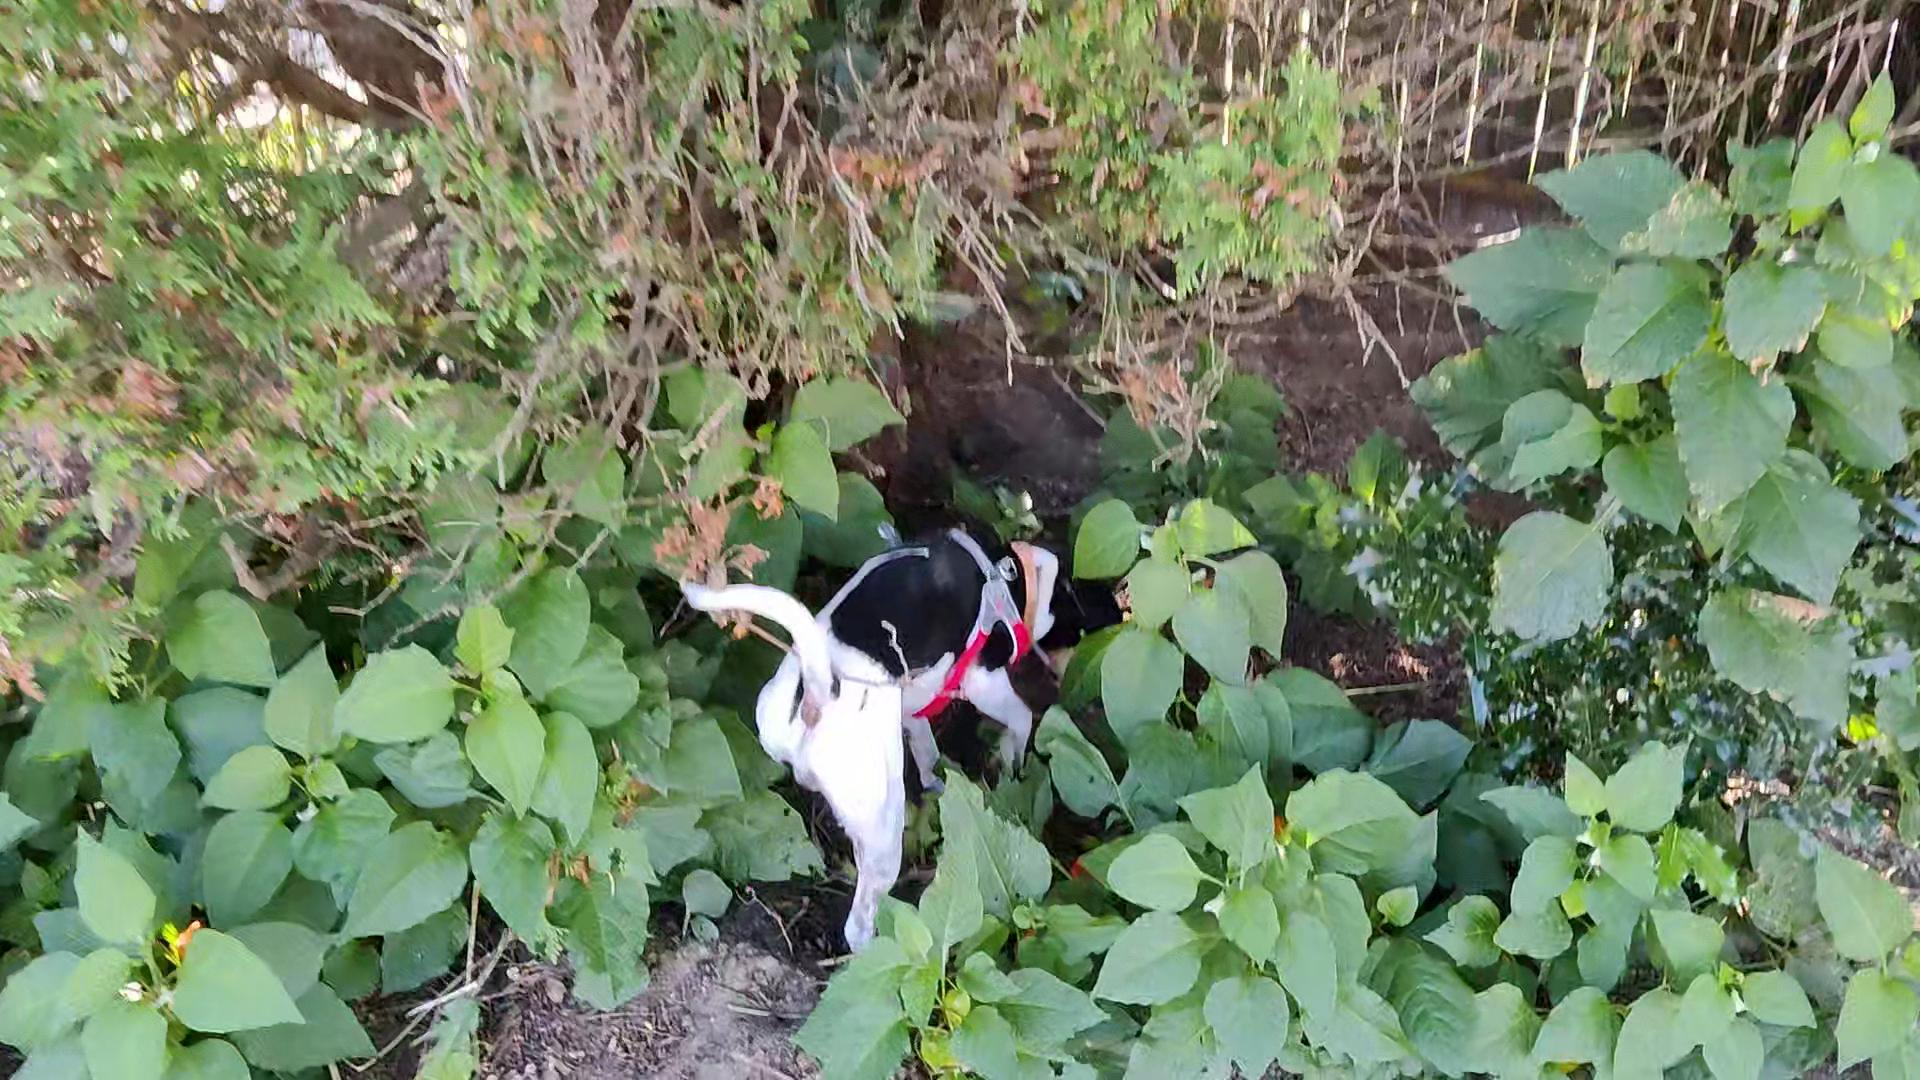Dog: (651, 477, 1129, 969)
